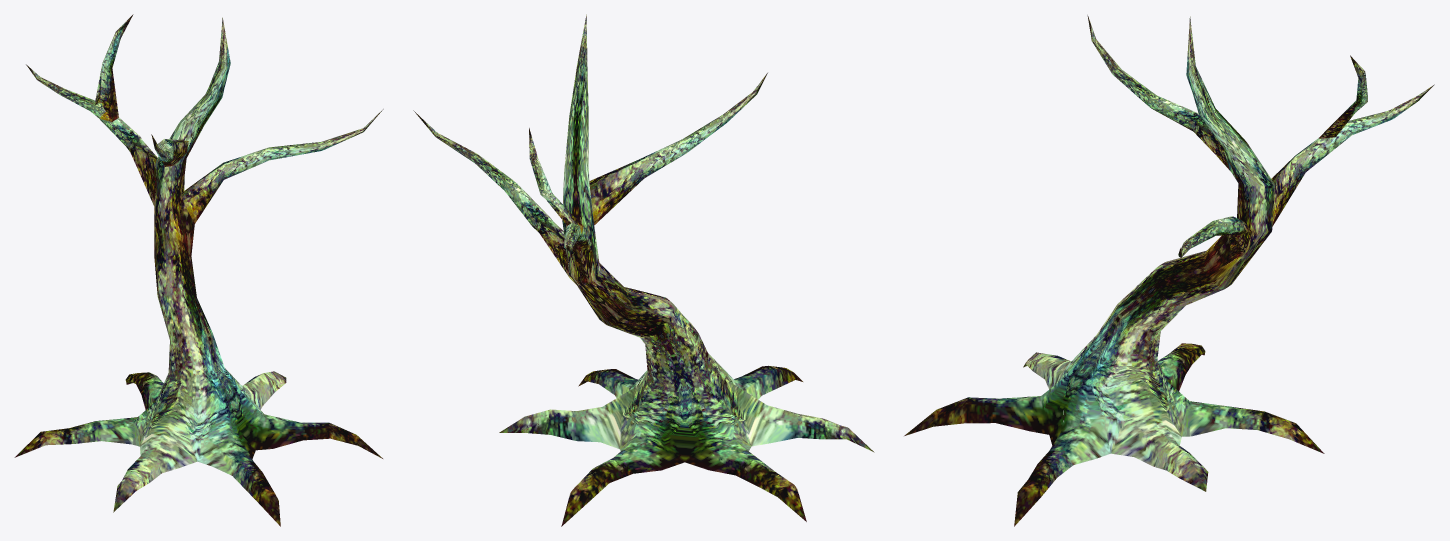
Rendered from a_tree_1-2.glb.
3 renders of one model, left to right at view 1: azimuth 30°, elevation 25°; view 2: azimuth 150°, elevation 25°; view 3: azimuth 270°, elevation 25°, orthographic. The views are drawn at different scales.
Visible parts, largest first — view 1: a_tree_1; view 2: a_tree_1; view 3: a_tree_1.
Boxes of the visible parts, left/top/right/bottom form: a_tree_1: left=14, top=14, right=383, bottom=526; a_tree_1: left=413, top=14, right=874, bottom=526; a_tree_1: left=904, top=15, right=1434, bottom=526.
Bounding box in the file's own units: 647 × 700 × 726.
1 material, 1 textured.
